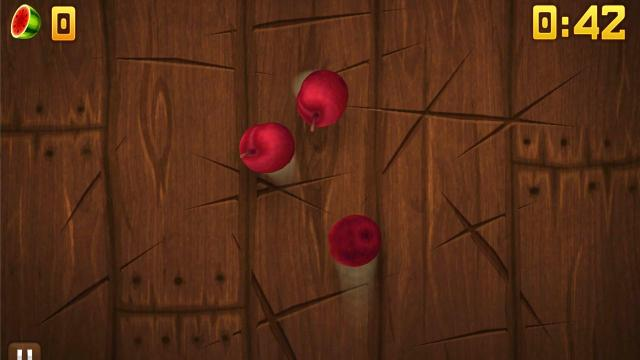fruit: (296, 70, 349, 131), (238, 122, 296, 174), (328, 213, 382, 267)
ignore: (9, 3, 43, 41)
